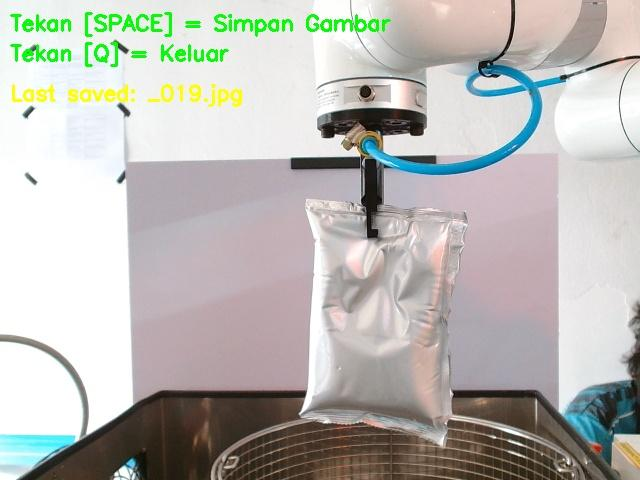retort-pouch: (296, 200, 463, 443)
